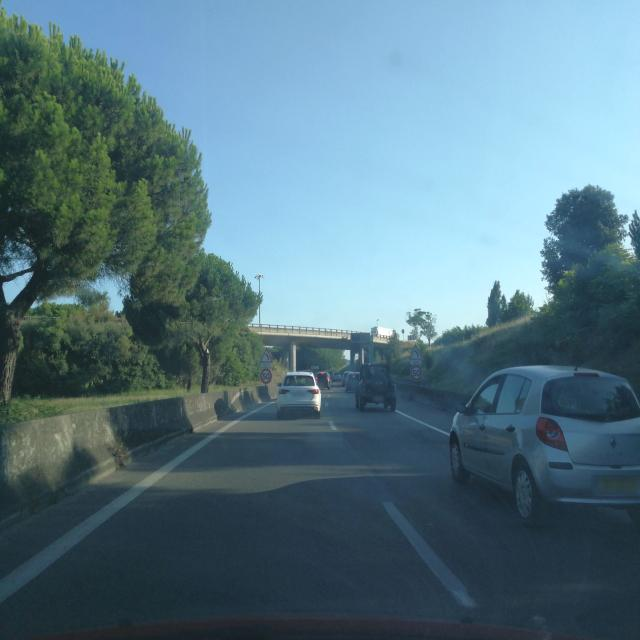car: (448, 362, 640, 526), (276, 370, 322, 420), (354, 363, 398, 412), (345, 371, 361, 394), (314, 371, 332, 390)
